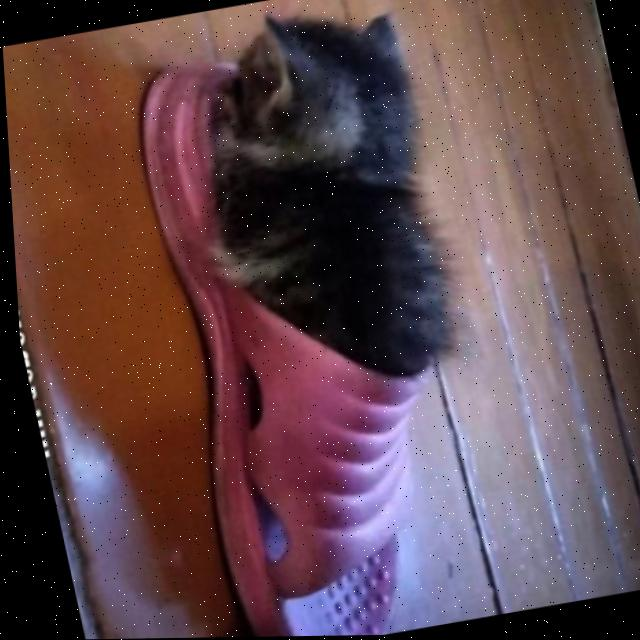Cats: (122, 0, 500, 455)
